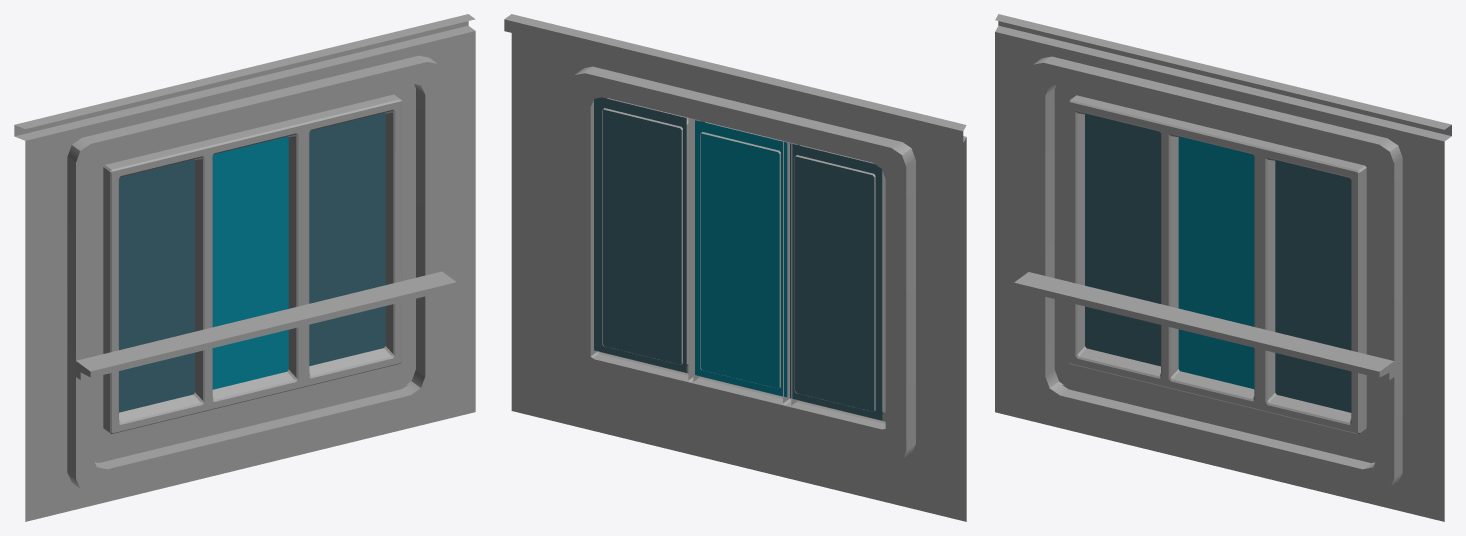
The model's file is Wall_Corner_WidowsPain_02.fbx.
3 views of the same model, side by side, from view 1: azimuth 30°, elevation 25°; view 2: azimuth 150°, elevation 25°; view 3: azimuth 330°, elevation 25° (orthographic).
Parts seen in each view (by area): view 1: m_Wall_Straight_WindowsPlain_05; view 2: m_Wall_Straight_WindowsPlain_05; view 3: m_Wall_Straight_WindowsPlain_05.
Part boxes in pixels (x1,y1,x2,y2): m_Wall_Straight_WindowsPlain_05: (14, 14, 475, 521); m_Wall_Straight_WindowsPlain_05: (504, 14, 966, 521); m_Wall_Straight_WindowsPlain_05: (995, 14, 1451, 521).
Bounding box in the file's own units: 303 × 250 × 35.03.
